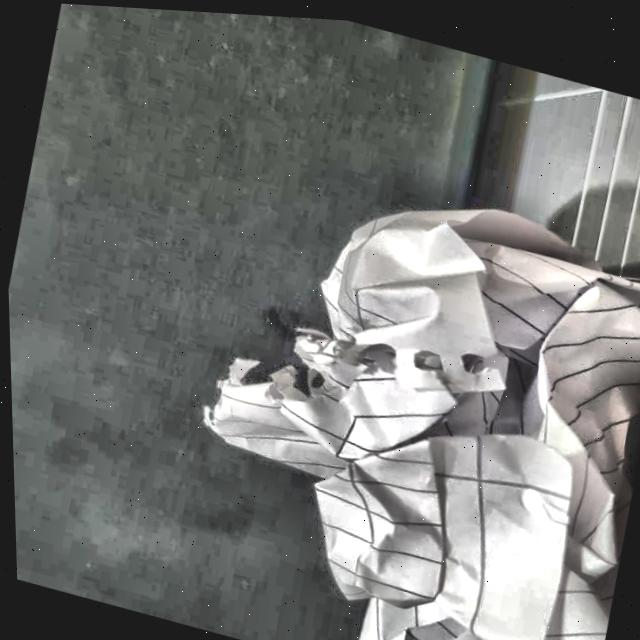paper: (160, 128, 640, 640)
